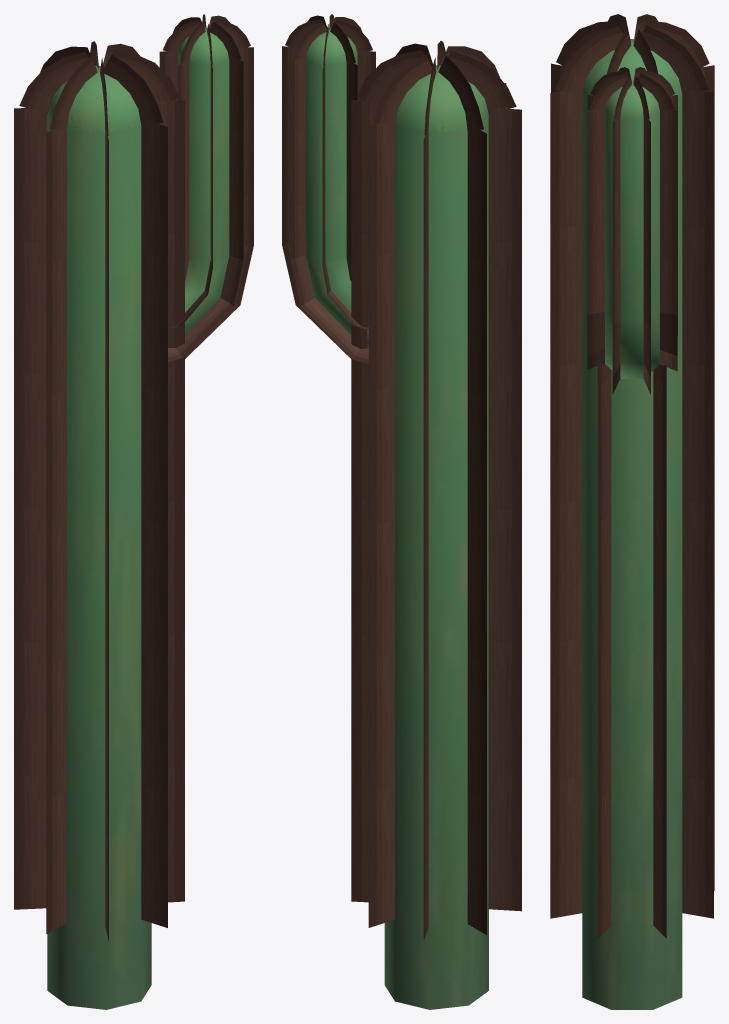
Rendered from Canyon_Cactus_Tall_2.glb.
3 views of the same model, side by side, from view 1: azimuth 30°, elevation 25°; view 2: azimuth 150°, elevation 25°; view 3: azimuth 270°, elevation 25° (orthographic). The views are drawn at different scales.
Visible parts, largest first — view 1: Canyon_Cactus_Tall_2_0; view 2: Canyon_Cactus_Tall_2_0; view 3: Canyon_Cactus_Tall_2_0.
Part boxes in pixels (x1,y1,x2,y2): Canyon_Cactus_Tall_2_0: (14, 14, 253, 1009); Canyon_Cactus_Tall_2_0: (282, 14, 521, 1009); Canyon_Cactus_Tall_2_0: (550, 14, 714, 1009).
Size of the model in its own units: 0.5231 by 2.19 by 0.3367.
Materials: 1 (1 with a texture image).
